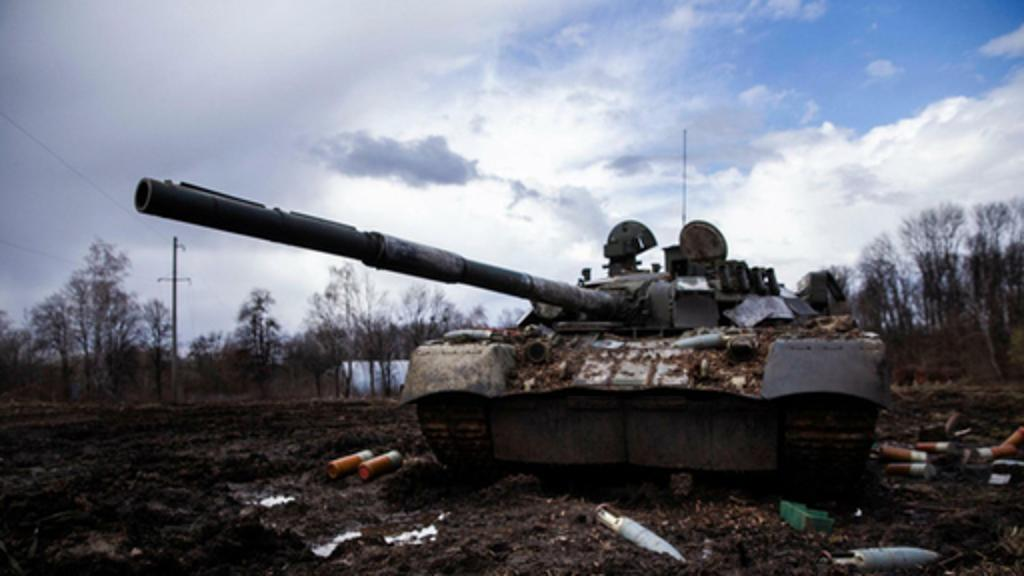TANK: (120, 168, 886, 506)
